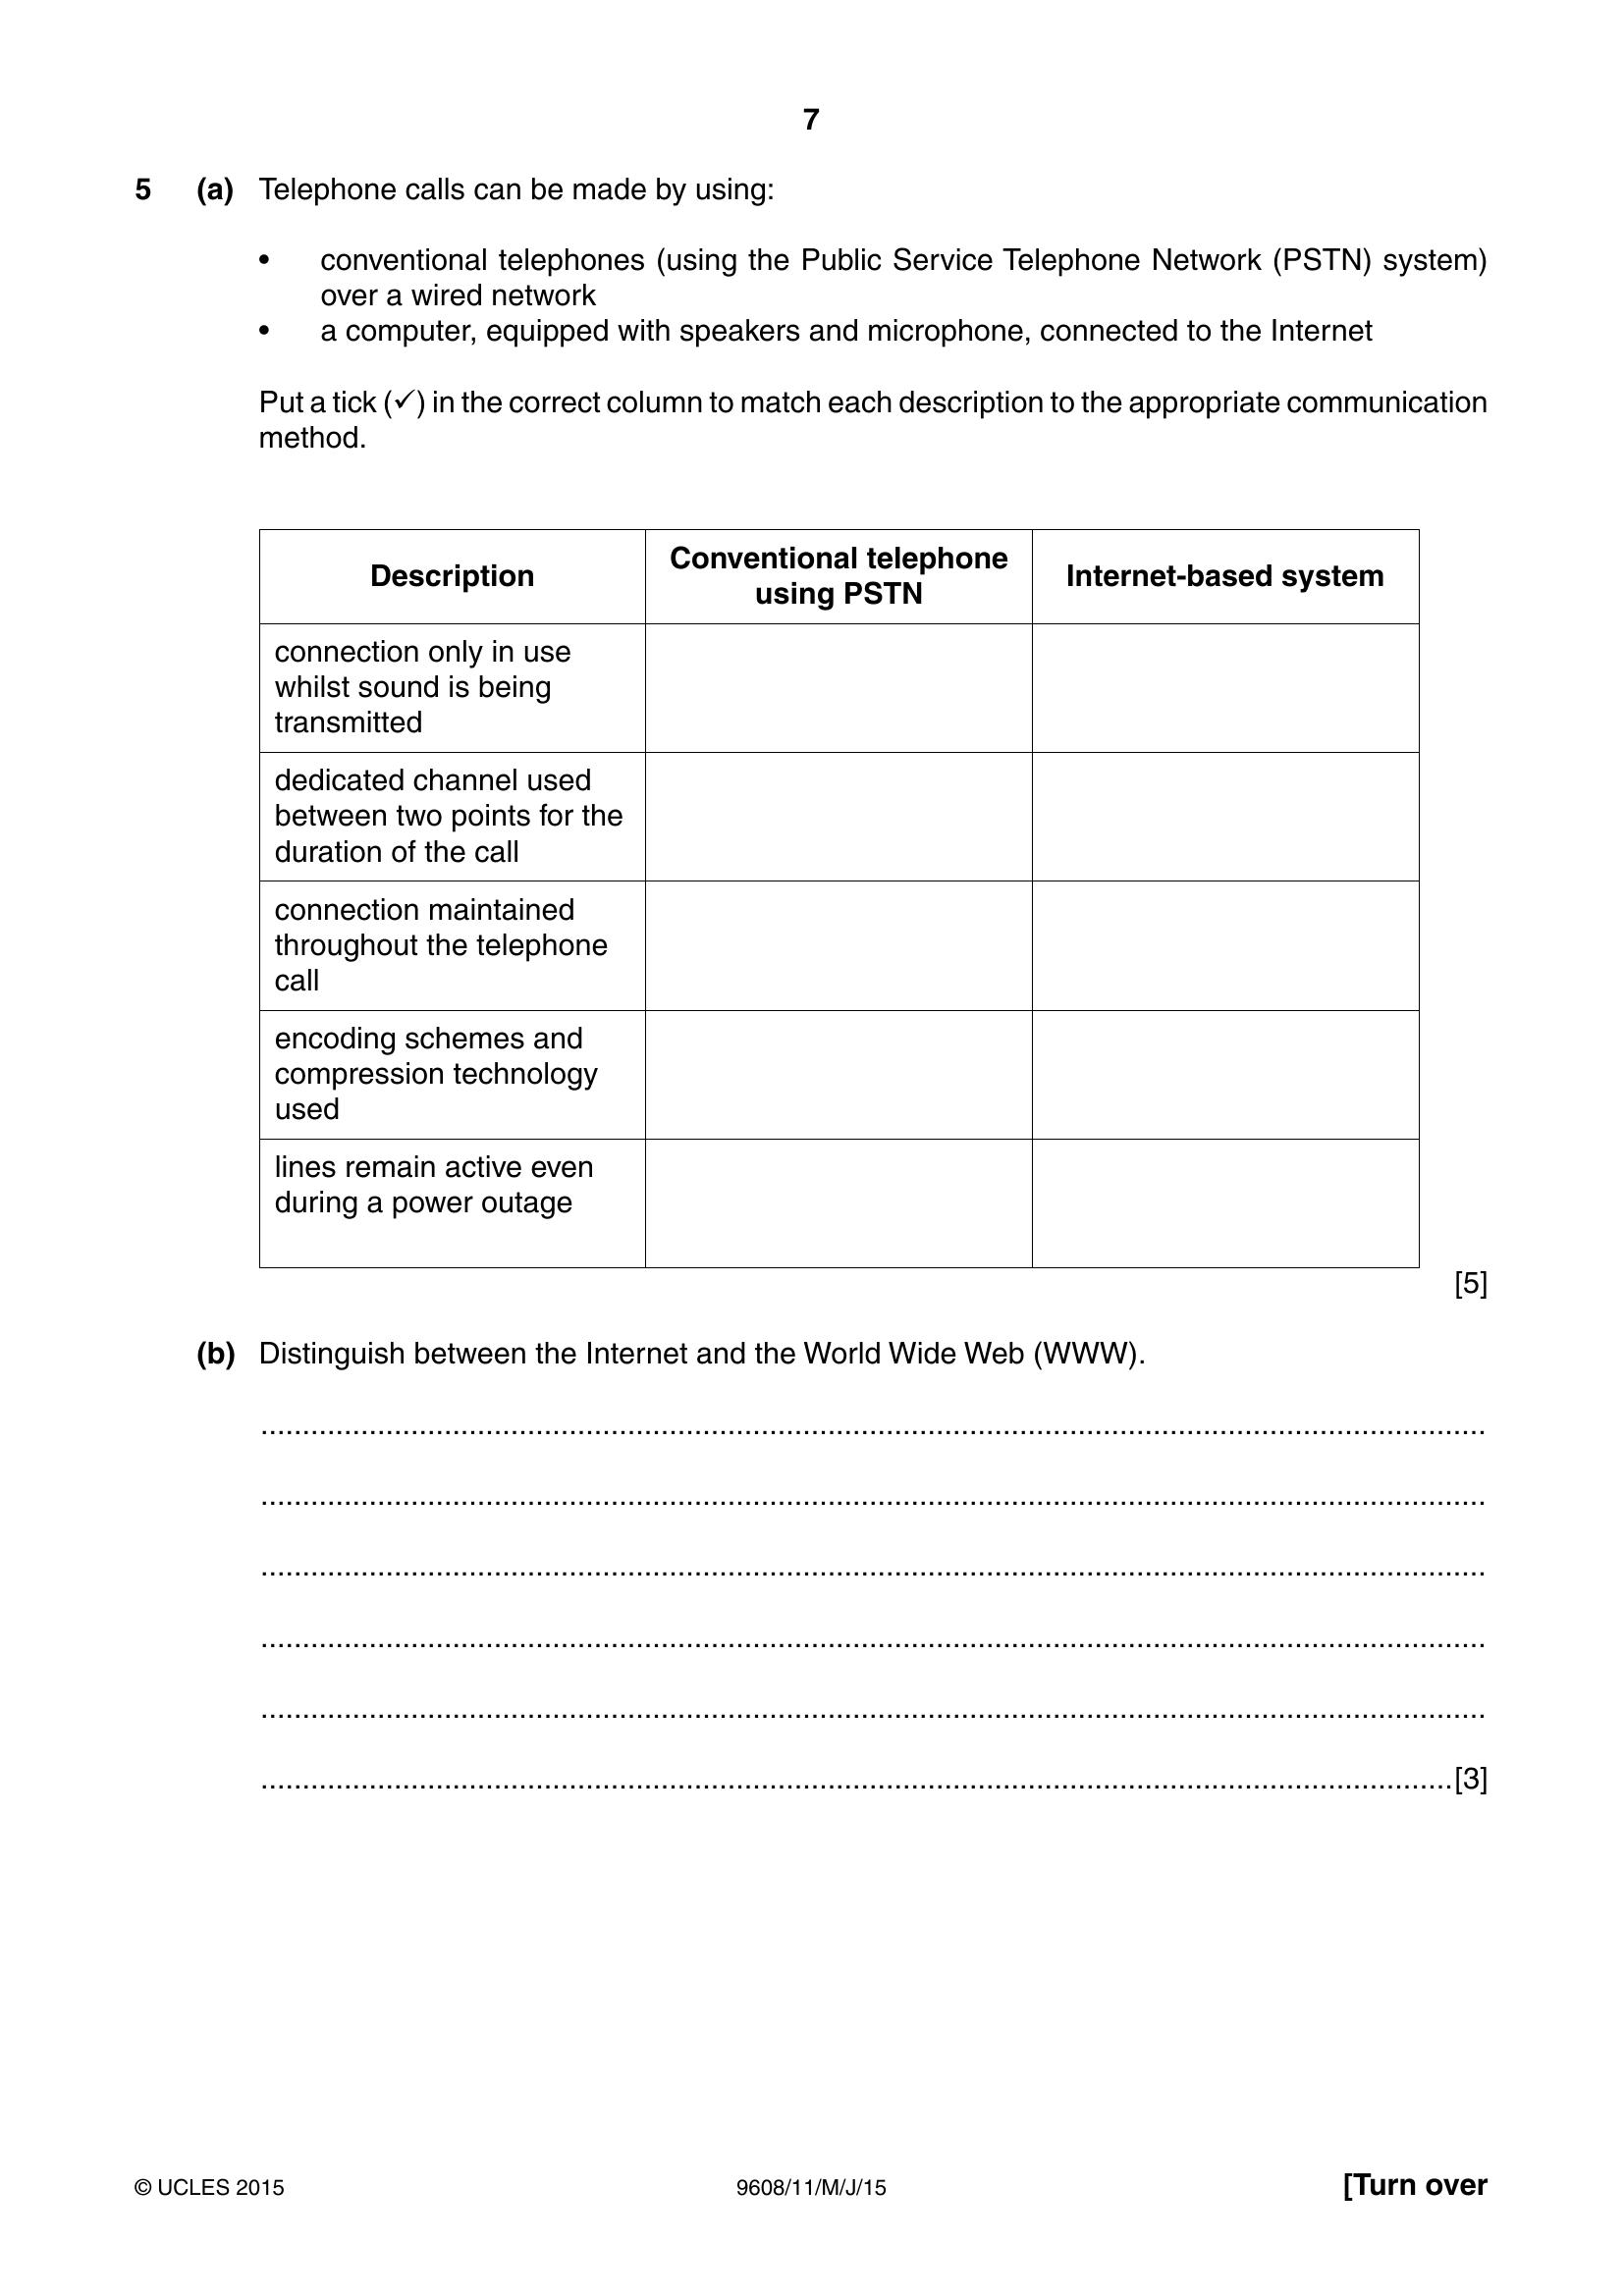question: (7, 162, 1624, 1852)
